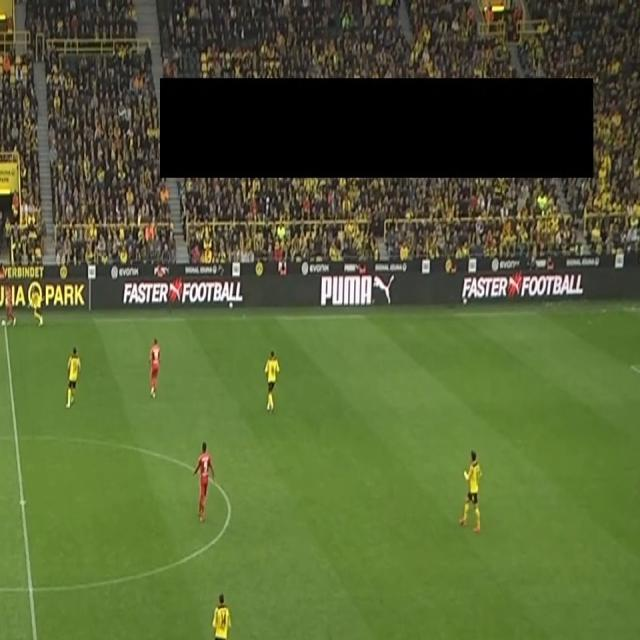ball: (1, 317, 6, 328)
